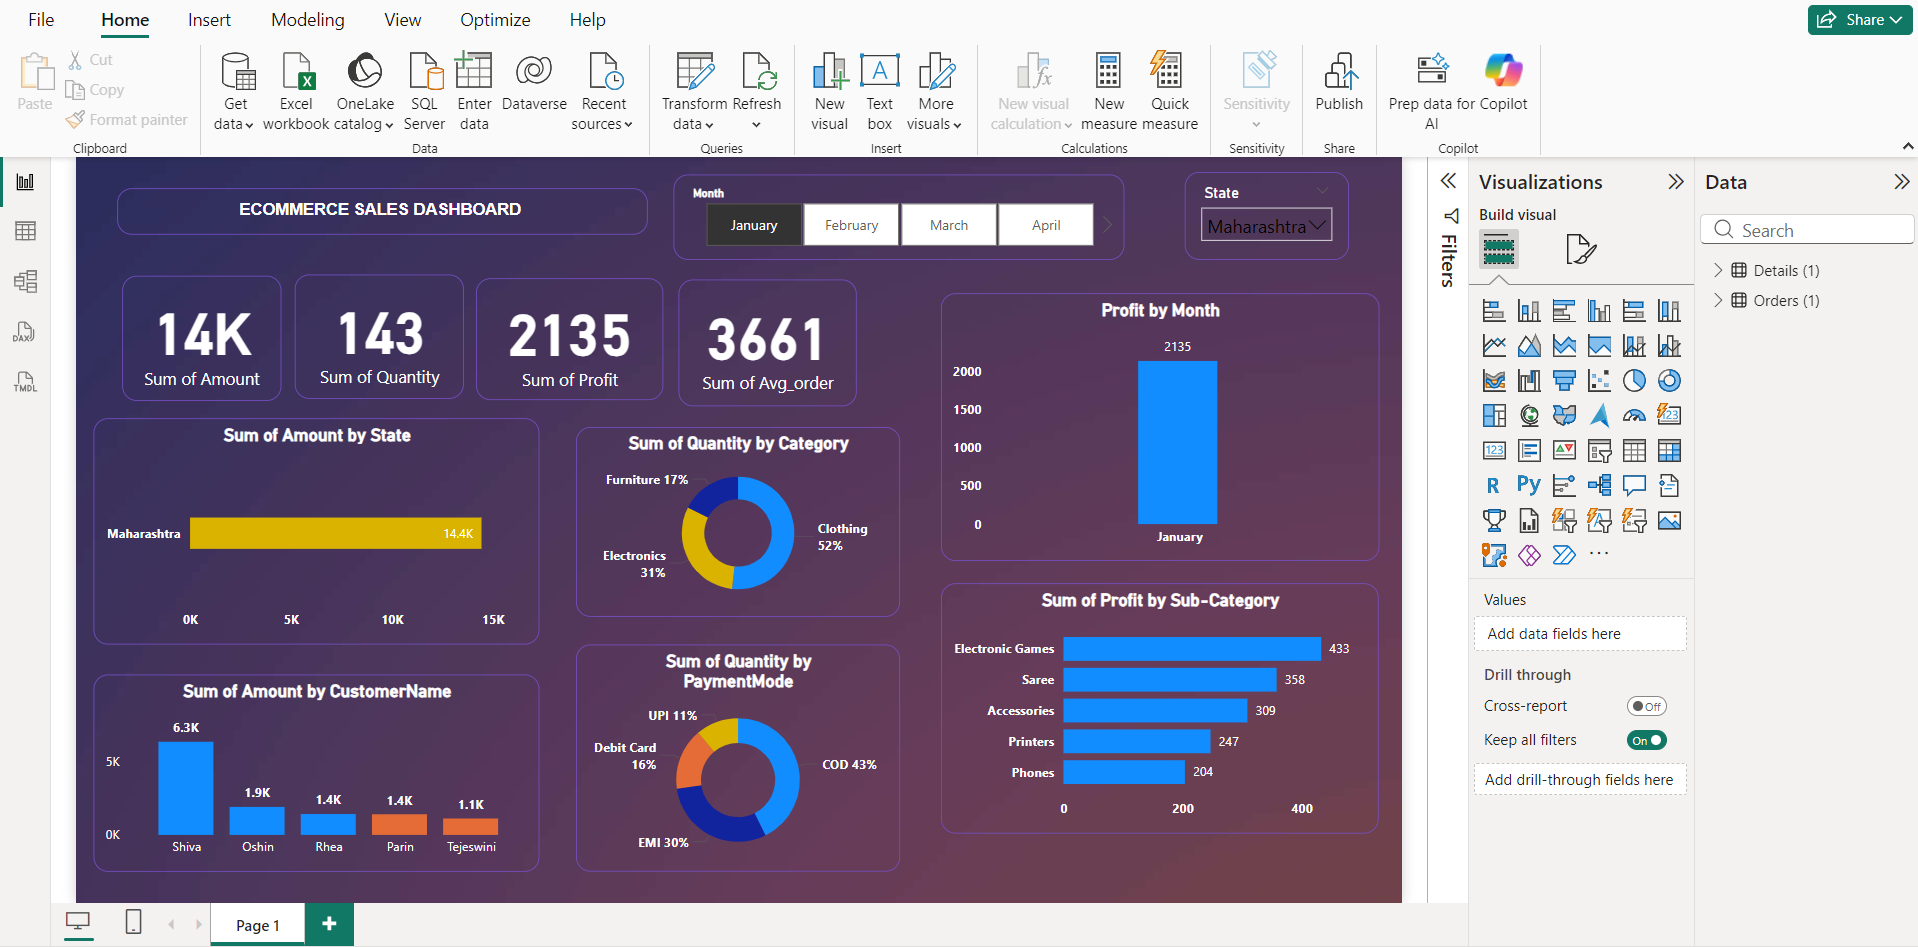

Layout of this report page (visuals, bound fields, positions):
{"tool":"powerbi","page":{"name":"Page 1","canvas":[1280,720],"ordinal":0},"visuals":[{"type":"textbox","box":[40,30,512.2,44.9],"z":0},{"type":"columnChart","title":"Profit by Month","fields":{"Category":["Orders (1).Order Date.Variation.Date Hierarchy.Month"],"Y":["Details (1).Profit"]},"box":[834.3,131.4,422.9,258.6],"z":1000},{"type":"clusteredBarChart","fields":{"Category":["Details (1).Sub-Category"],"Y":["Details (1).Profit"]},"box":[834.9,411.4,422.3,241.3],"z":2000},{"type":"donutChart","fields":{"Category":["Details (1).Category"],"Y":["Details (1).Quantity"]},"box":[482.6,260.6,312.5,183.4],"z":3000},{"type":"donutChart","fields":{"Y":["Details (1).Quantity"],"Category":["Details (1).PaymentMode"]},"box":[482.6,470.5,312.5,219.6],"z":4000},{"type":"card","fields":{"Values":["Details (1).Amount"]},"box":[44.4,114.9,153.3,120.7],"z":5000},{"type":"card","fields":{"Values":["Details (1).Quantity"]},"box":[211.3,113.6,163.3,120],"z":6000},{"type":"card","fields":{"Values":["Details (1).Profit"]},"box":[386.4,117.6,181.1,117.8],"z":7000},{"type":"card","fields":{"Values":["Details (1).Avg_order"]},"box":[581.8,118.2,172.2,122.2],"z":8000},{"type":"clusteredBarChart","fields":{"Category":["Orders (1).State"],"Y":["Details (1).Amount"]},"box":[16.9,252.1,430.7,218.4],"z":9000},{"type":"clusteredColumnChart","fields":{"Category":["Orders (1).CustomerName"],"Y":["Details (1).Amount"]},"box":[16.9,499.5,430.7,190.6],"z":10000},{"type":"slicer","fields":{"Values":["Orders (1).Order Date.Variation.Date Hierarchy.Month"]},"box":[576.7,16.7,435.6,82.2],"z":11000},{"type":"slicer","fields":{"Values":["Orders (1).State"]},"box":[1070.1,14.5,158,84.5],"z":12000}]}

Visuals, with their boxes on the page's 1280x720 design canvas (x1, y1, x2, y2). These are canvas units, not pixel positions in the 1918x947 screenshot, which may show the page scaled, cropped or inside an application window:
textbox: 40 30 552 75
"Profit by Month" columnChart: 834 131 1257 390
clusteredBarChart - Details (1).Sub-Category x Details (1).Profit: 835 411 1257 653
donutChart - Details (1).Category x Details (1).Quantity: 483 261 795 444
donutChart - Details (1).Quantity x Details (1).PaymentMode: 483 470 795 690
card - Details (1).Amount: 44 115 198 236
card - Details (1).Quantity: 211 114 375 234
card - Details (1).Profit: 386 118 568 235
card - Details (1).Avg_order: 582 118 754 240
clusteredBarChart - Orders (1).State x Details (1).Amount: 17 252 448 470
clusteredColumnChart - Orders (1).CustomerName x Details (1).Amount: 17 500 448 690
slicer - Orders (1).Order Date.Variation.Date Hierarchy.Month: 577 17 1012 99
slicer - Orders (1).State: 1070 14 1228 99
